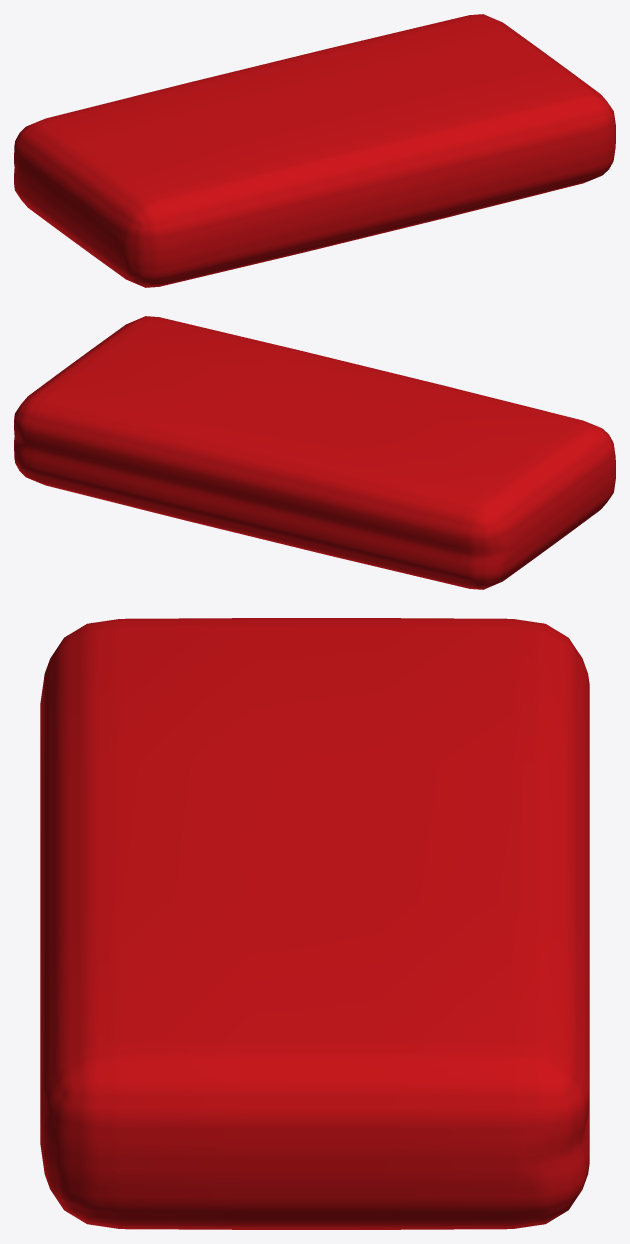
The model's file is TowelFoldedRed.glb.
The picture shows the model from 3 angles, top to bottom: view 1: azimuth 30°, elevation 25°; view 2: azimuth 150°, elevation 25°; view 3: azimuth 270°, elevation 25°; orthographic projection. The views are drawn at different scales.
Visible parts, largest first — view 1: FoldedBathTowel; view 2: FoldedBathTowel; view 3: FoldedBathTowel.
Part boxes in pixels (x1,y1,x2,y2): FoldedBathTowel: (14, 14, 615, 287); FoldedBathTowel: (14, 316, 615, 589); FoldedBathTowel: (40, 618, 589, 1229).
Bounding box in the file's own units: 0.33 × 0.0596 × 0.1592.
